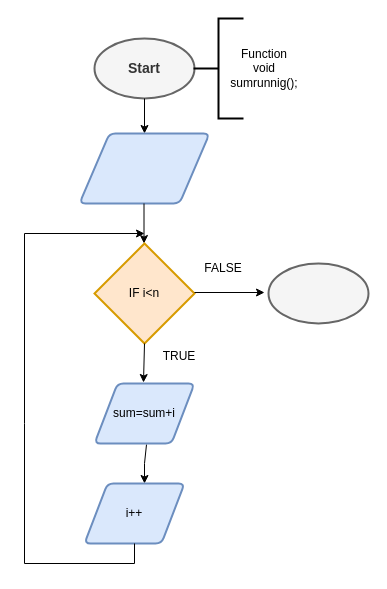
Image size: 387x589. Some labels were removed from this diagram. Each missing label, with the centre of its shape:
"END" belongs at pixel 318 293.
"Input: int sum=0, i=1,n" belongs at pixel 144 168.
